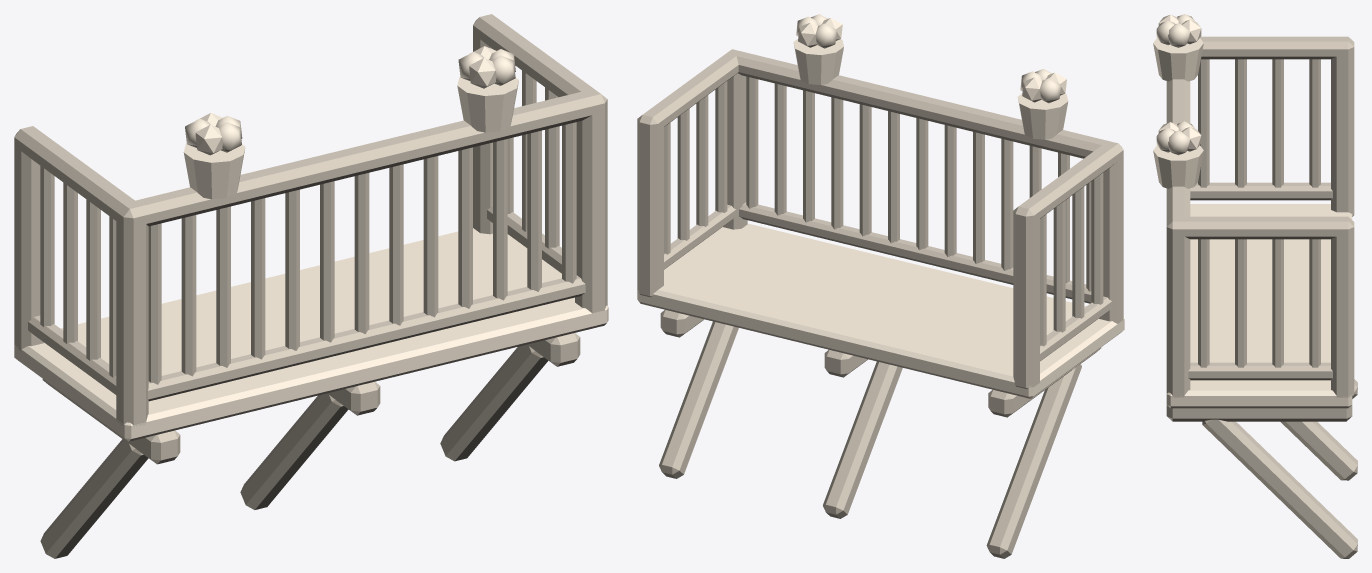
The model's file is SM_VK_Balcony.fbx.
3 views of the same model, side by side, from view 1: azimuth 30°, elevation 25°; view 2: azimuth 150°, elevation 25°; view 3: azimuth 270°, elevation 25° (orthographic). The views are drawn at different scales.
Parts seen in each view (by area): view 1: SM_VK_Balcony.001; view 2: SM_VK_Balcony.001; view 3: SM_VK_Balcony.001.
Part boxes in pixels (bbox=[...]): SM_VK_Balcony.001: bbox=[14, 14, 608, 558]; SM_VK_Balcony.001: bbox=[637, 14, 1124, 558]; SM_VK_Balcony.001: bbox=[1153, 14, 1357, 558].
Size of the model in its own units: 2.3 by 2.27 by 1.05.
